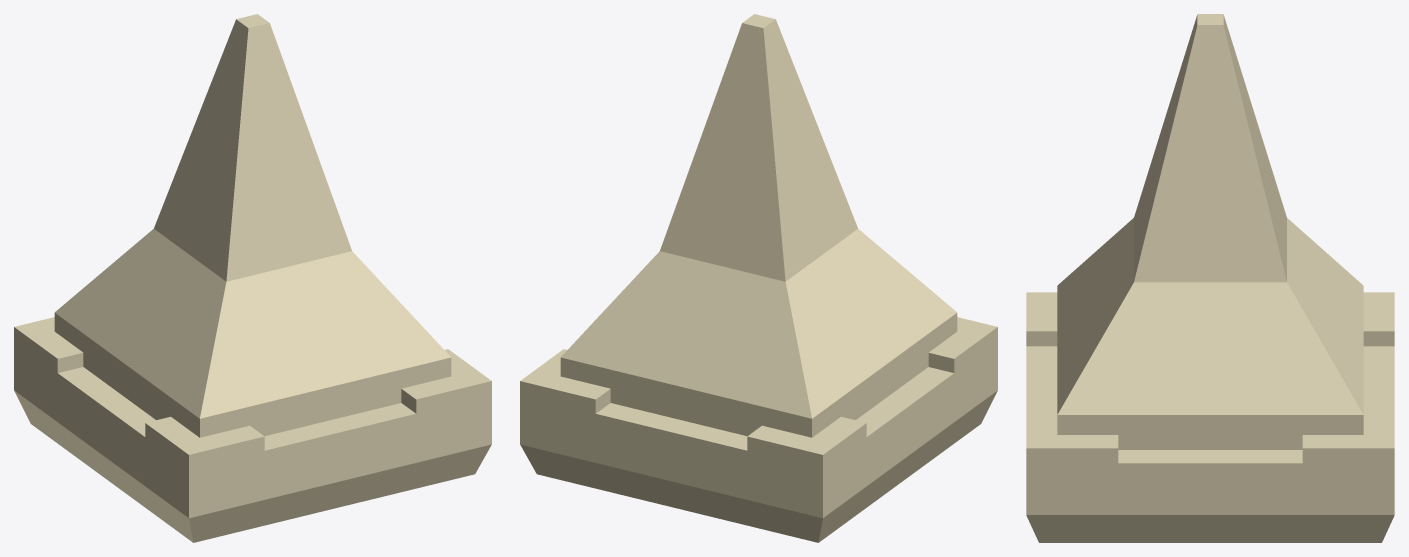
File: towersquaretoproofhigh.glb
The picture shows the model from 3 angles, left to right: view 1: azimuth 30°, elevation 25°; view 2: azimuth 150°, elevation 25°; view 3: azimuth 270°, elevation 25°; orthographic projection. The views are drawn at different scales.
Parts seen in each view (by area): view 1: towerSquareTopRoofHigh; view 2: towerSquareTopRoofHigh; view 3: towerSquareTopRoofHigh.
Part boxes in pixels (x1,y1,x2,y2): towerSquareTopRoofHigh: (14, 14, 491, 542); towerSquareTopRoofHigh: (520, 14, 997, 542); towerSquareTopRoofHigh: (1026, 14, 1394, 542).
Bounding box in the file's own units: 10 × 13.5 × 10.
